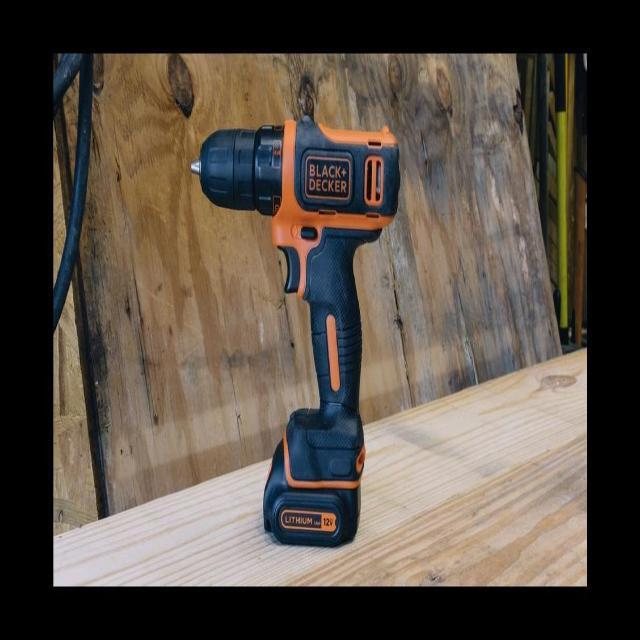drill: (191, 116, 401, 550)
